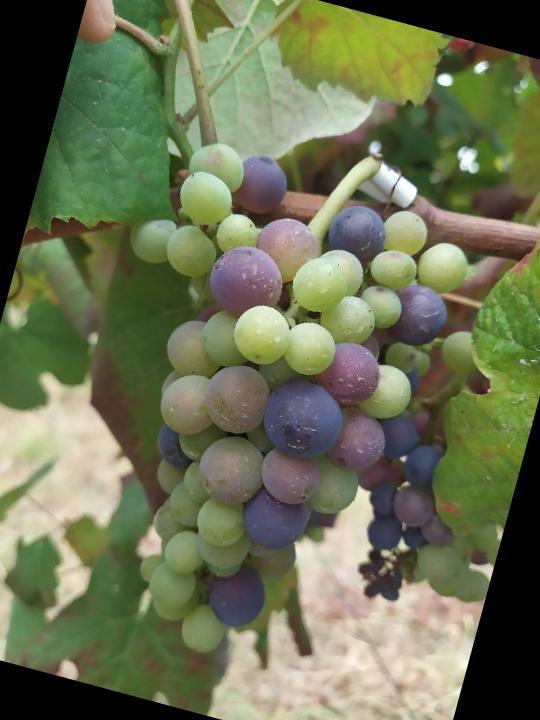grape: (26, 122, 488, 700)
